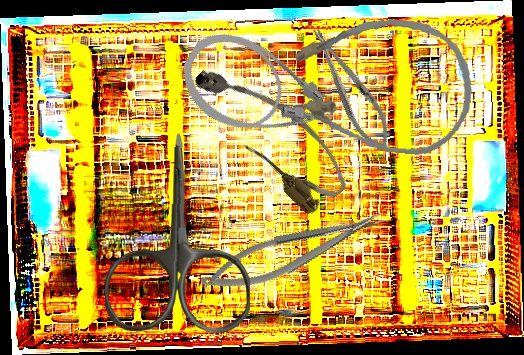Cannula: (272, 8, 479, 160), (184, 43, 359, 221), (167, 15, 352, 176)
Iris Scissors: (104, 130, 253, 335)
Needle Holder: (195, 203, 392, 301), (301, 19, 401, 158)
